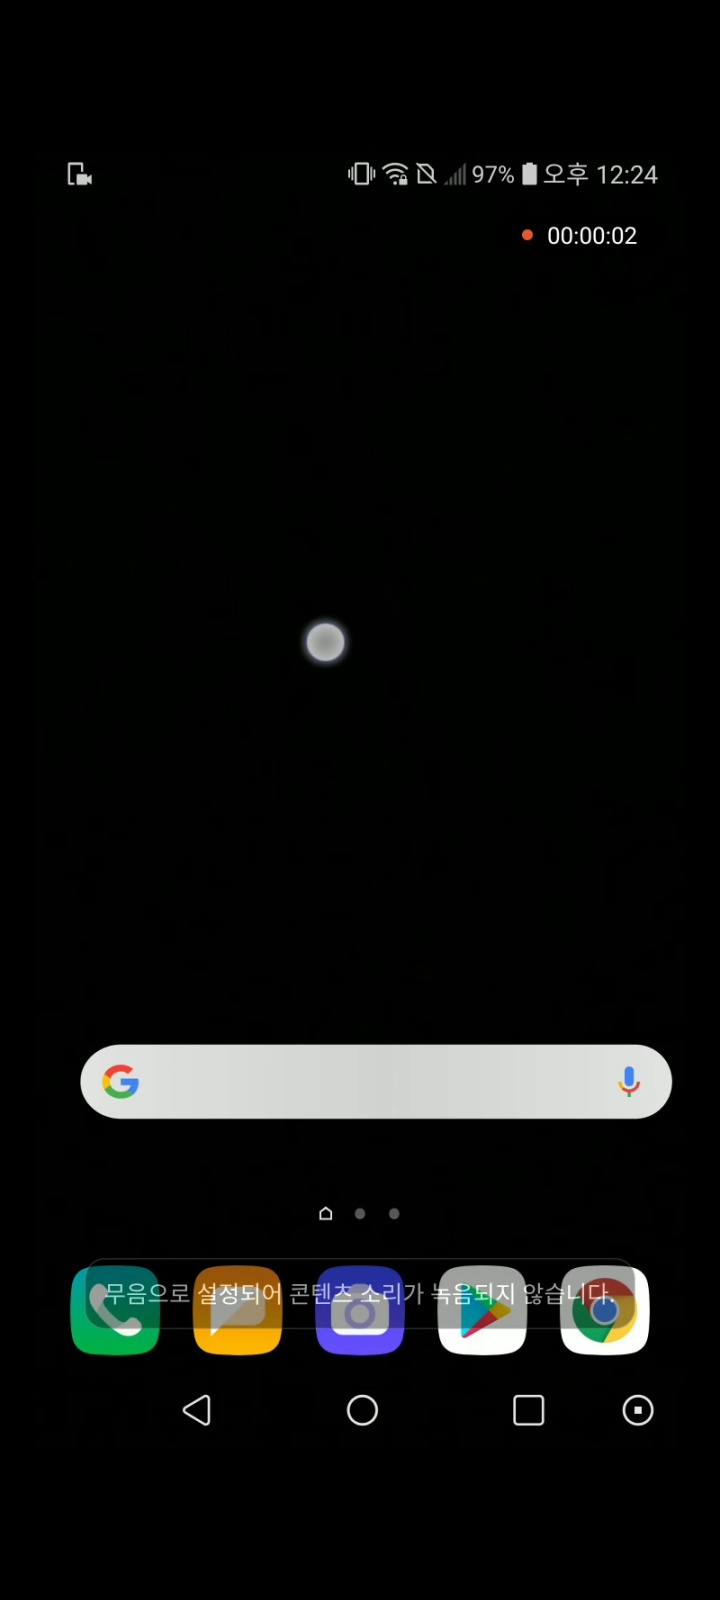Cursor: (304, 620, 349, 665)
